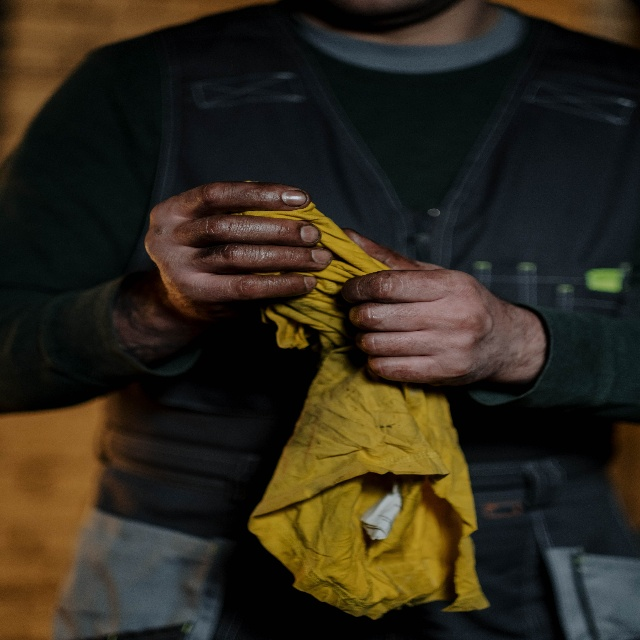Sin_guantes: (144, 173, 334, 327), (338, 222, 507, 389)
